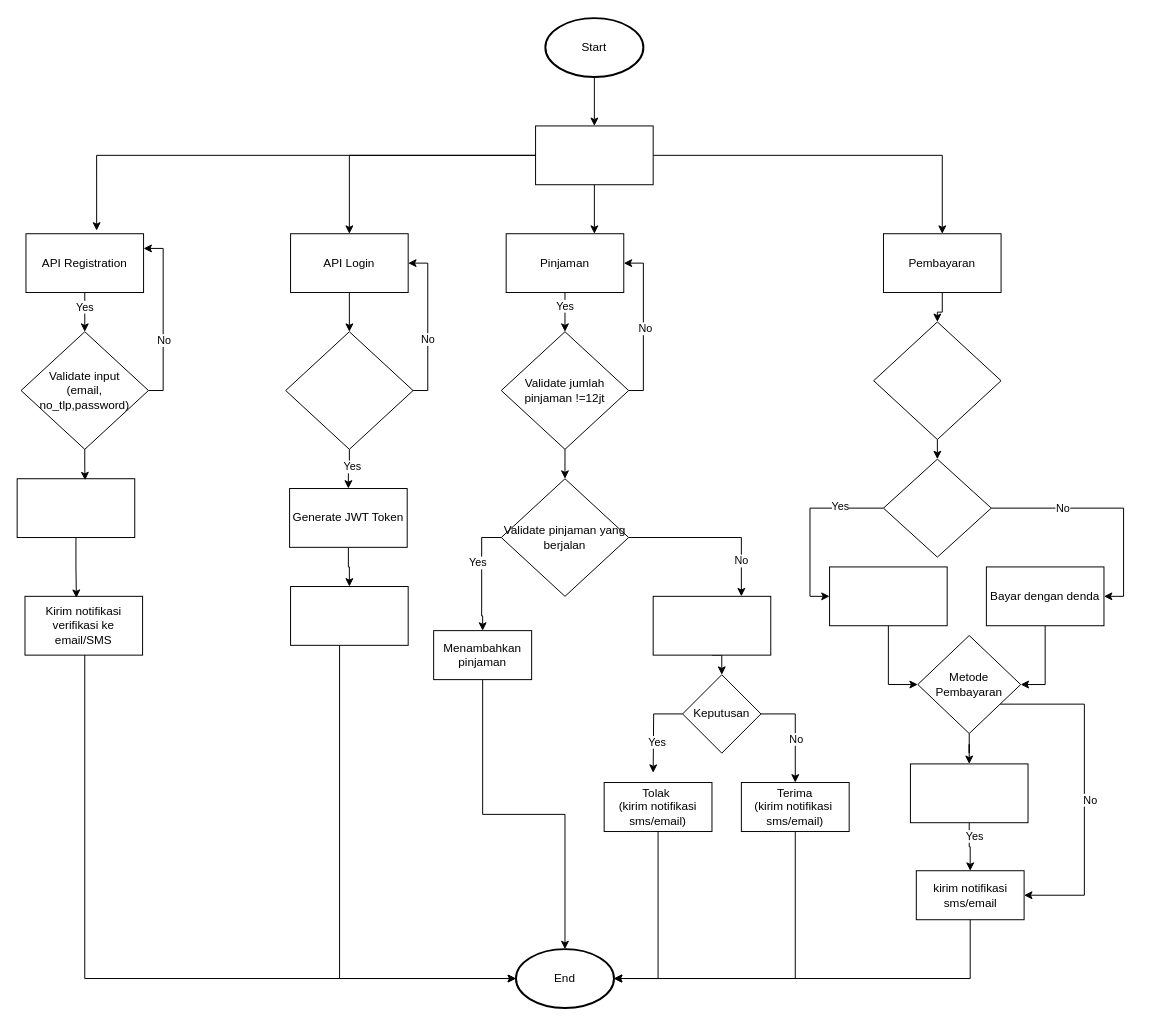
The diagram is 1149 pixels wide and 1025 high, and some of its shapes have lost their labels. Here are the shapes that lost their labels. From the top down, the centre of each, then its label:
At (x=594, y=155): "Mobile apps client".
At (x=349, y=390): "Validate credential / Biometric".
At (x=937, y=380): "Validate jumlah pembayaran".
At (x=75, y=508): "Simpan data di DB".
At (x=936, y=507): "Validasi Tanggal jatuh tempo".
At (x=349, y=615): "Return Token To Client".
At (x=888, y=596): "Bayar tanpa denda".
At (x=711, y=625): "Menyimpan data pinjaman".
At (x=968, y=793): "Sukses menyimpan data ke DB".
